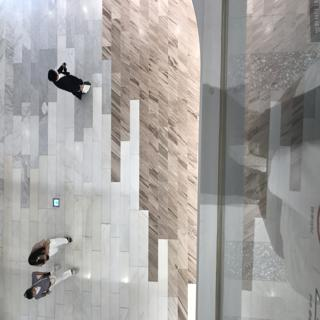person: (46, 58, 98, 106), (25, 229, 82, 264), (19, 269, 81, 299)
